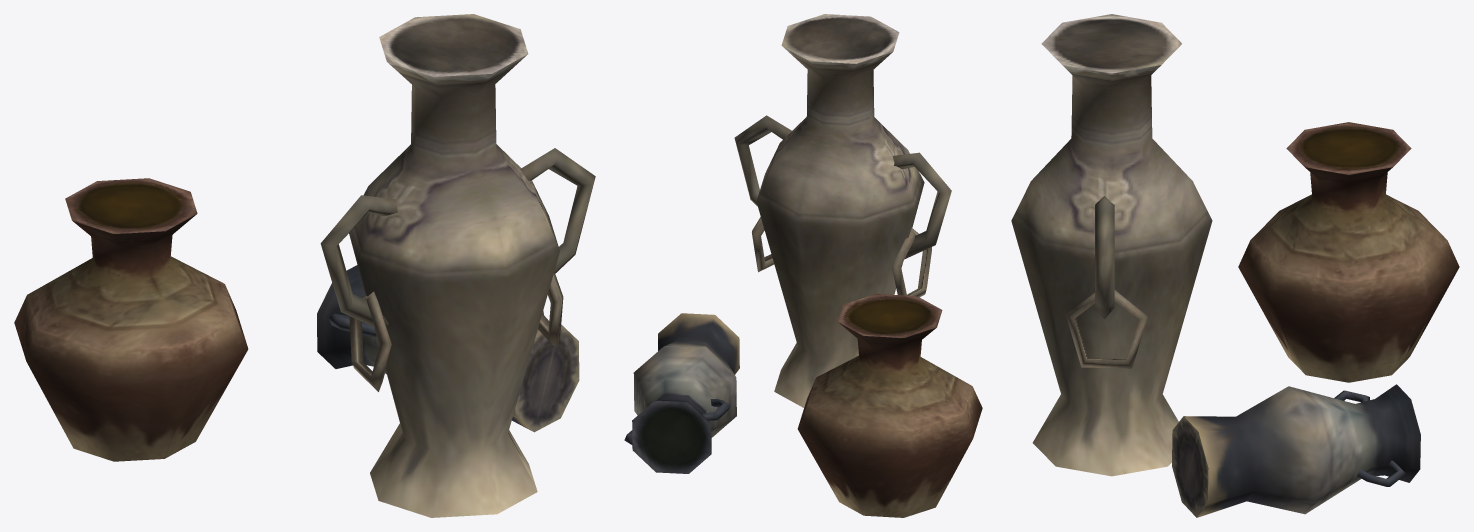
File: guanzi_xb_40.FBX
The picture shows the model from 3 angles, left to right: view 1: azimuth 30°, elevation 25°; view 2: azimuth 150°, elevation 25°; view 3: azimuth 270°, elevation 25°; orthographic projection. The views are drawn at different scales.
Visible parts, largest first — view 1: guanzi_xb_40; view 2: guanzi_xb_40; view 3: guanzi_xb_40.
Part boxes in pixels (x1,y1,x2,y2): guanzi_xb_40: (14, 14, 595, 517); guanzi_xb_40: (624, 14, 982, 517); guanzi_xb_40: (1011, 14, 1459, 517).
Bounding box in the file's own units: 130 × 120 × 116.
